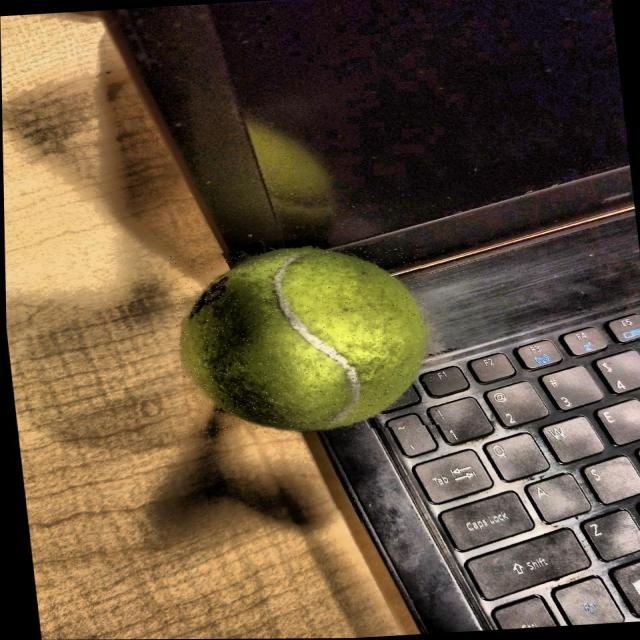tennis-ball: (168, 242, 439, 440)
